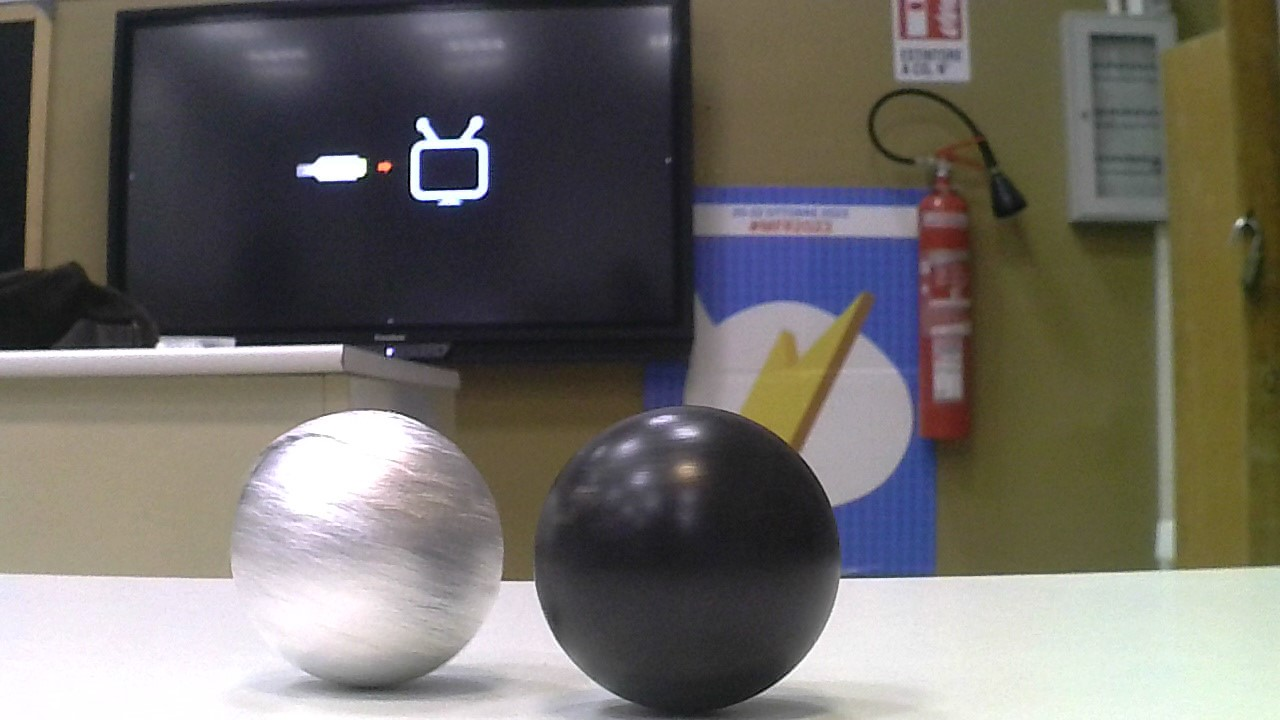black_ball: (529, 399, 848, 714)
silver_ball: (225, 395, 505, 689)
